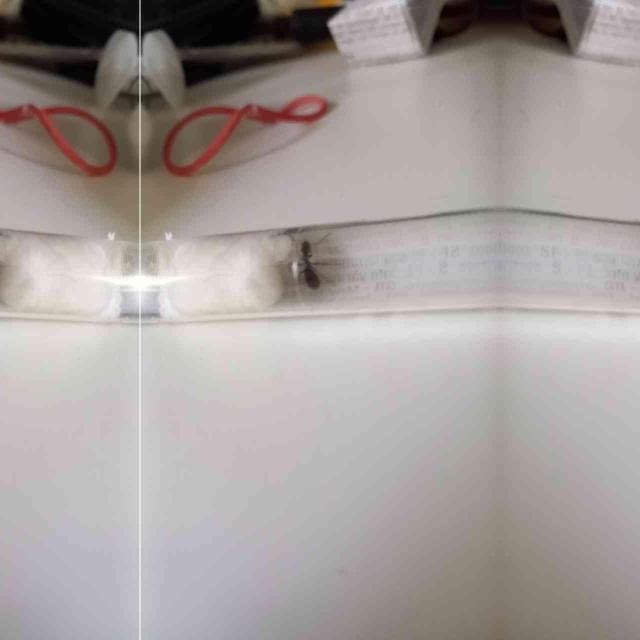Formica: (296, 233, 332, 290)
